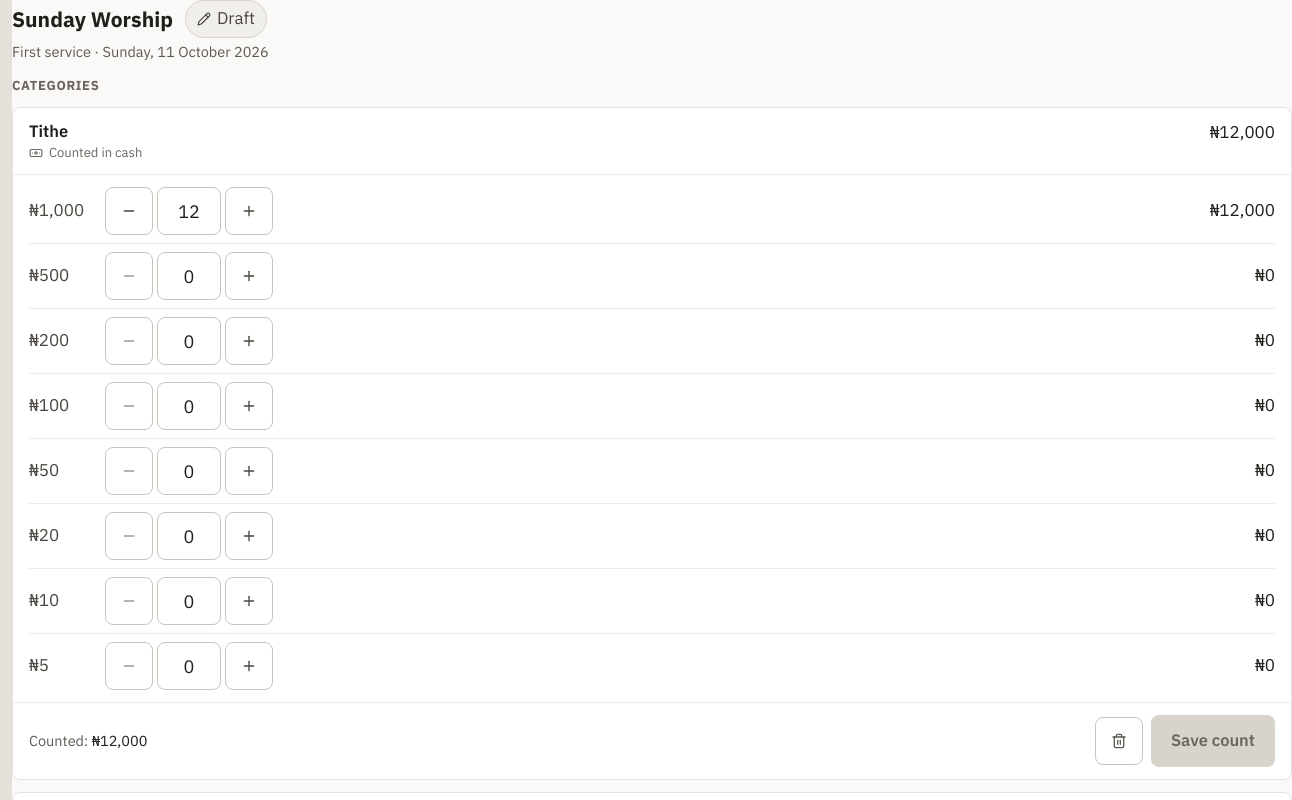
Test: a counted but unsaved figure › replaces Finalize with a block naming that category
This screenshot has width=1292, height=800.
Replace the text in the field named "How many 1,000 naira notes" with "20" at (189, 211), box [157, 187, 221, 235]
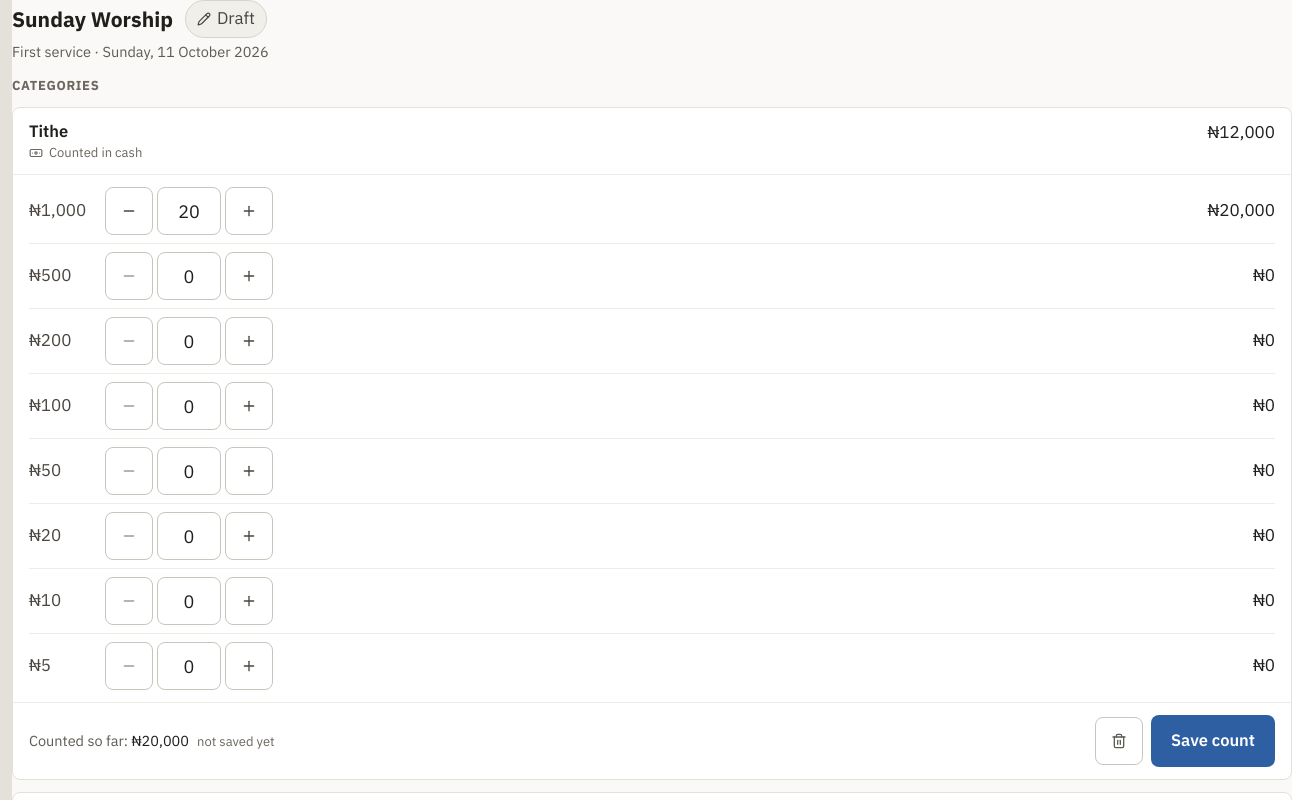
Check: the button "Save count" is enabled, box [1151, 715, 1275, 767]
